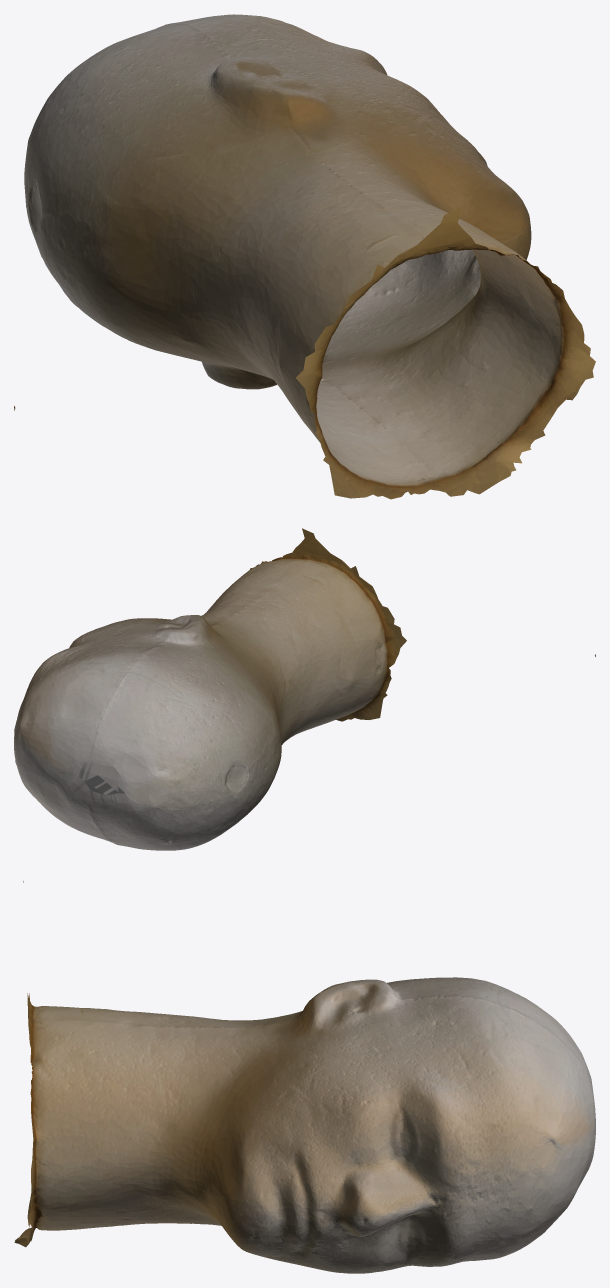
Rendered from Head.obj.
The picture shows the model from 3 angles, top to bottom: view 1: azimuth 30°, elevation 25°; view 2: azimuth 150°, elevation 25°; view 3: azimuth 270°, elevation 25°; orthographic projection. The views are drawn at different scales.
Bounding box in the file's own units: 44.66 × 20 × 39.32.
2 materials, 2 textured.
